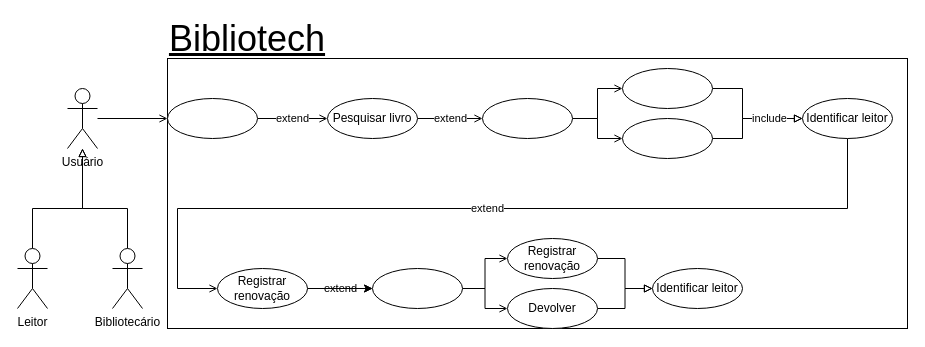
Some shapes in this 925 by 347 pixel diagram are drawn without their labels. The centre of each missing label's shape, as x and y in pixels:
Cadastrar: pixel 212 118
Registrar empréstimo: pixel 667 138
Renovar livro: pixel 417 288
Reservar: pixel 667 88
Reservar livro: pixel 527 118
